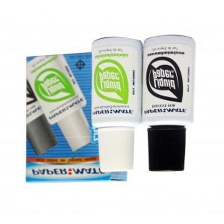book: (21, 48, 133, 185)
correction_fluid: (138, 33, 198, 174), (89, 35, 143, 173)
